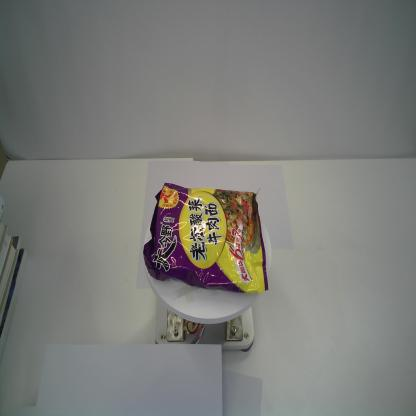Instant Noodles: (142, 181, 270, 296)
